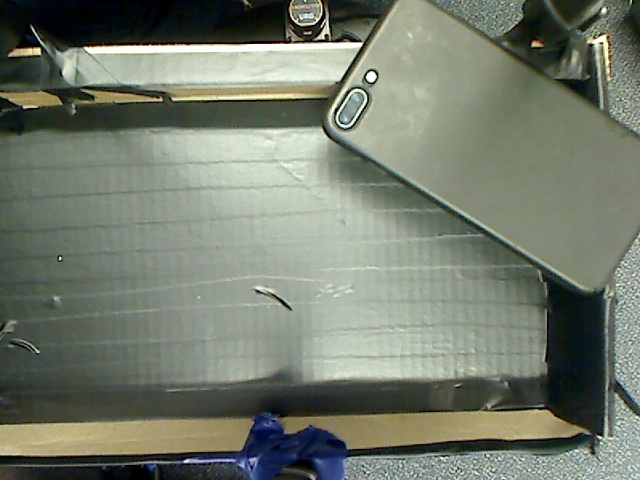phone: (305, 1, 626, 318)
